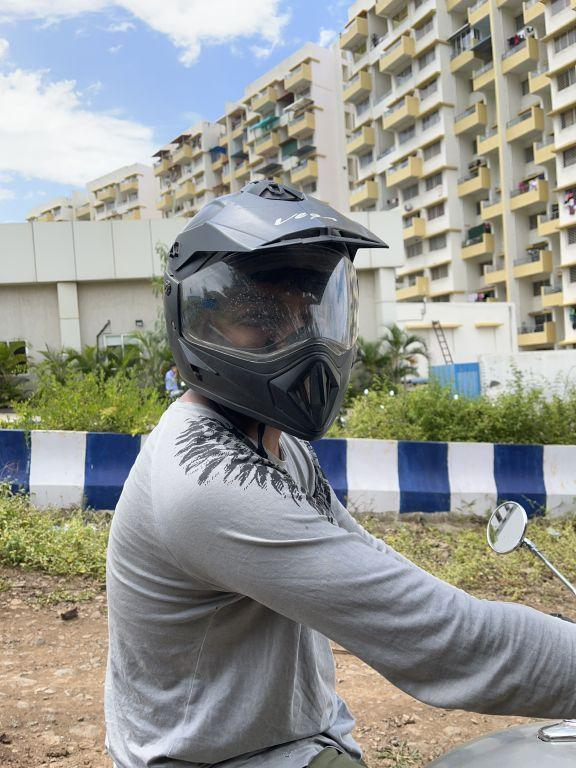helmet: (152, 174, 392, 450)
